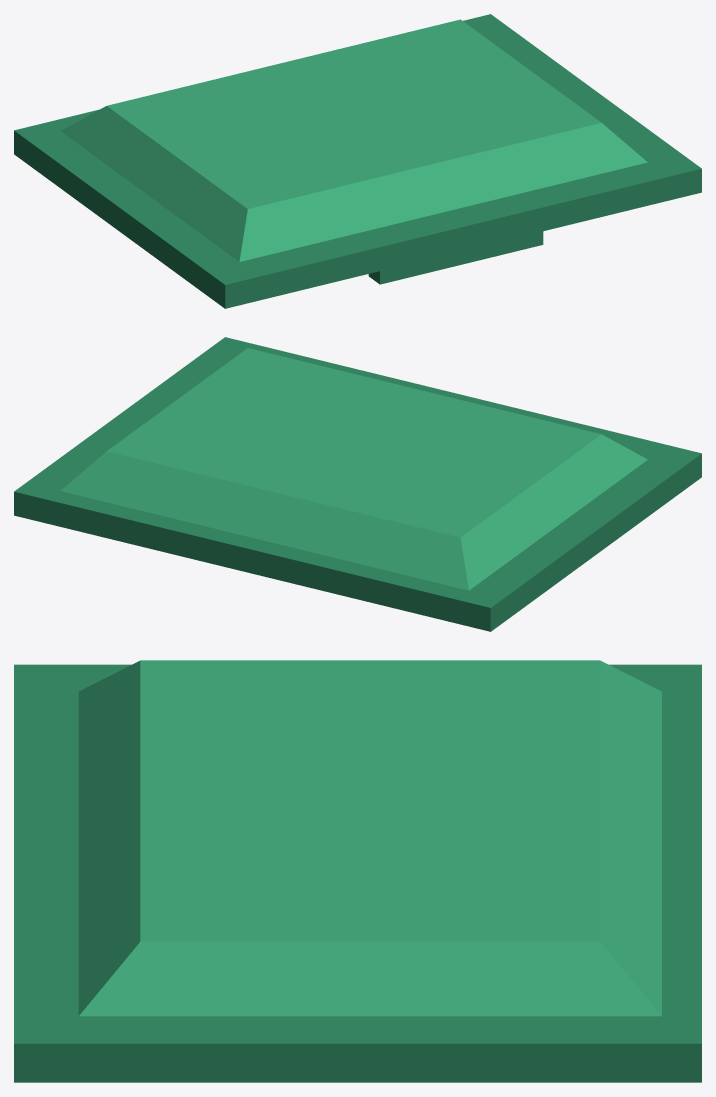
The model's file is municipal_bin_lid.fbx.
The picture shows the model from 3 angles, top to bottom: view 1: azimuth 30°, elevation 25°; view 2: azimuth 150°, elevation 25°; view 3: azimuth 270°, elevation 25°; orthographic projection. The views are drawn at different scales.
Parts seen in each view (by area): view 1: municipal_bin_lid; view 2: municipal_bin_lid; view 3: municipal_bin_lid.
Boxes of the visible parts, <box> form: municipal_bin_lid: <box>14,14,701,308</box>; municipal_bin_lid: <box>14,337,701,631</box>; municipal_bin_lid: <box>14,660,701,1082</box>.
Bounding box in the file's own units: 1.46 × 0.21 × 1.12.
